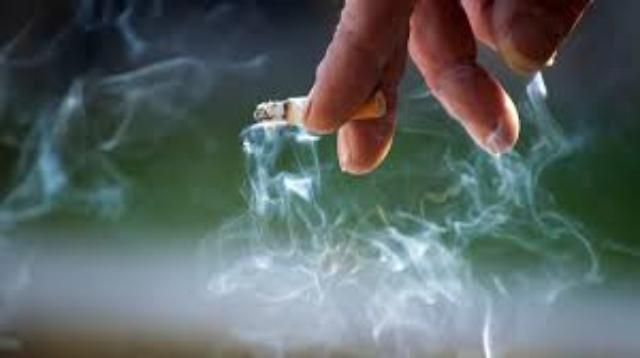Smoking: (254, 92, 388, 125)
